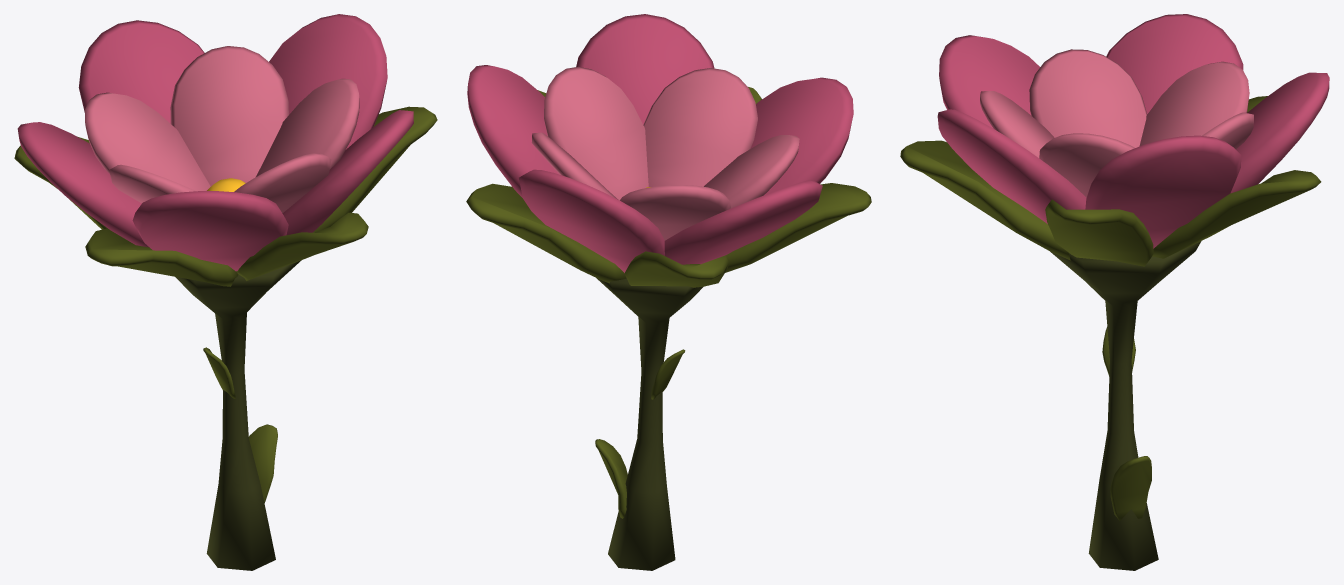
Rendered from flor_normal.fbx.
3 views of the same model, side by side, from view 1: azimuth 30°, elevation 25°; view 2: azimuth 150°, elevation 25°; view 3: azimuth 270°, elevation 25° (orthographic). The views are drawn at different scales.
Parts seen in each view (by area): view 1: flor_normal; view 2: flor_normal; view 3: flor_normal.
Part boxes in pixels (box(x1,y1,x2,y2)): flor_normal: box(14, 14, 437, 570); flor_normal: box(466, 14, 871, 570); flor_normal: box(900, 14, 1329, 570).
Bounding box in the file's own units: 79.17 × 100 × 79.79.
